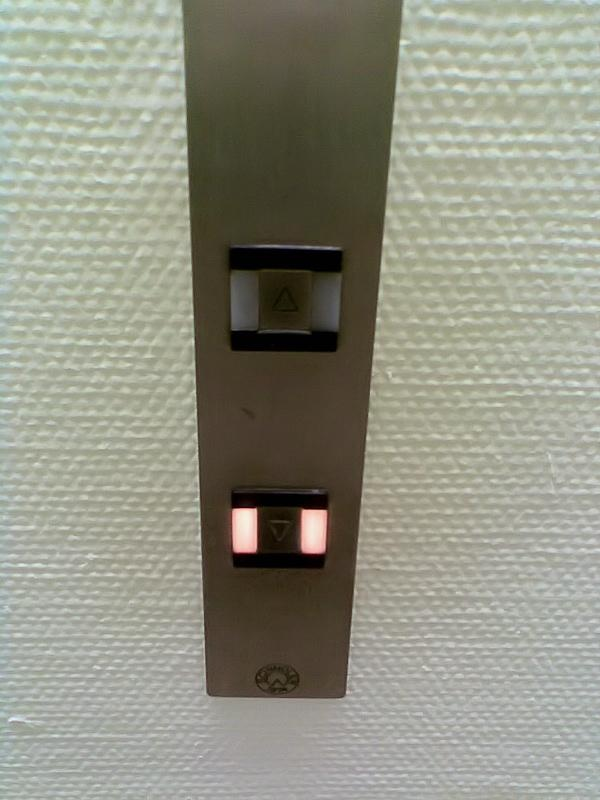down: (258, 507, 303, 555)
up: (253, 266, 316, 333)
